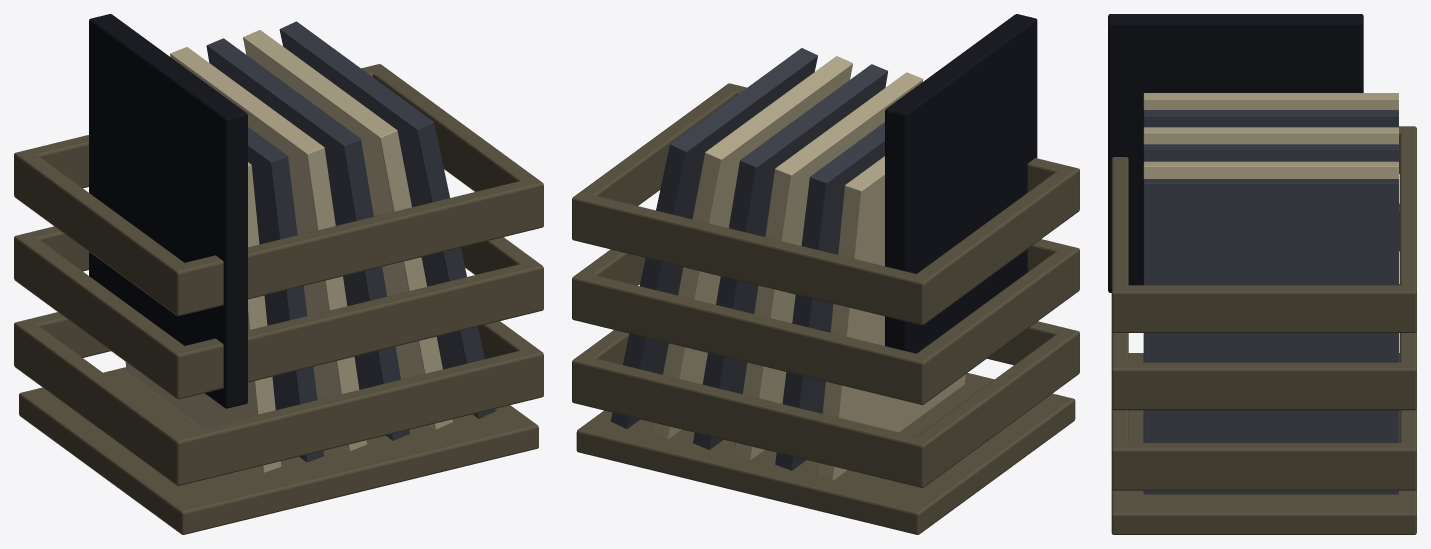
File: record_crate_leaning.glb
3 views of the same model, side by side, from view 1: azimuth 30°, elevation 25°; view 2: azimuth 150°, elevation 25°; view 3: azimuth 270°, elevation 25° (orthographic). The views are drawn at different scales.
Visible parts, largest first — view 1: record_crate_leaning; view 2: record_crate_leaning; view 3: record_crate_leaning.
Part boxes in pixels (<box>): record_crate_leaning: <box>14,14,543,534</box>; record_crate_leaning: <box>572,14,1079,534</box>; record_crate_leaning: <box>1108,14,1416,534</box>.
Bounding box in the file's own units: 0.555 × 0.59 × 0.435.
